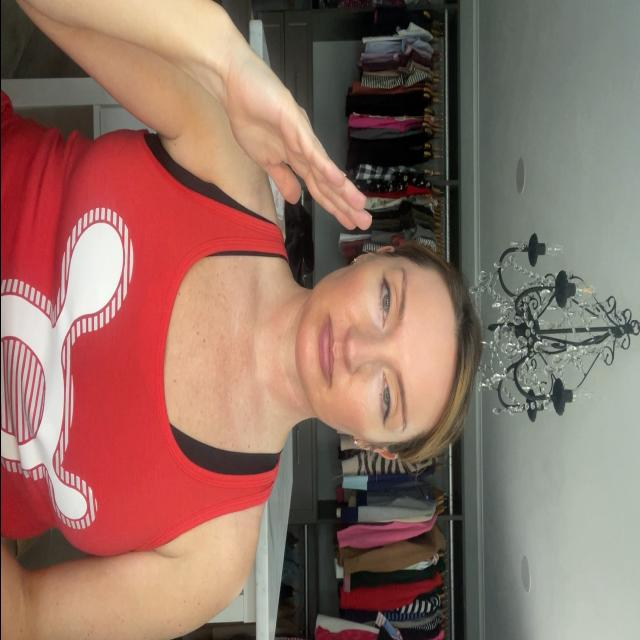Paper: (225, 44, 373, 234)
